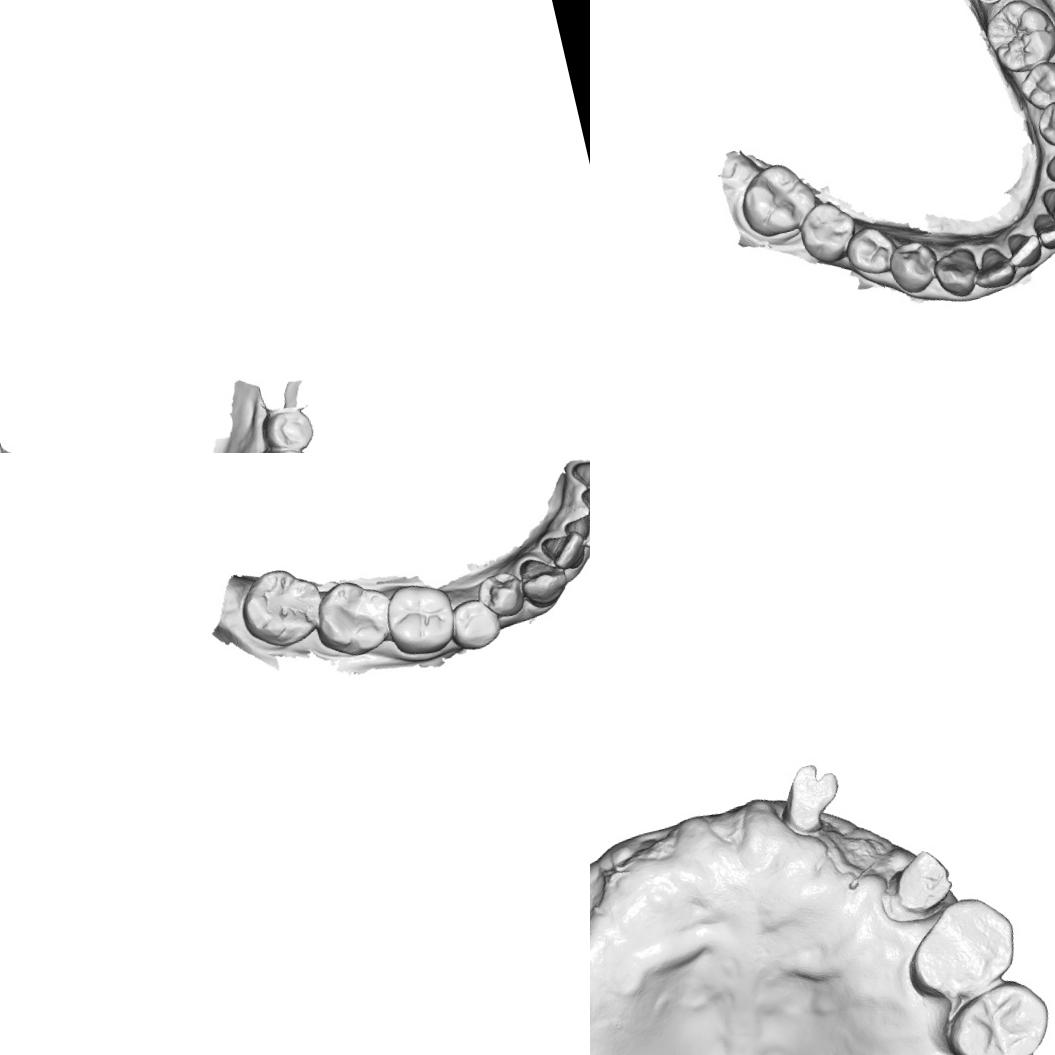canine: (512, 548, 575, 615), (928, 244, 984, 302), (1039, 137, 1055, 193)
crown: (768, 750, 856, 848), (877, 844, 961, 926)
incisor: (968, 242, 1020, 293), (538, 528, 590, 576), (1002, 227, 1044, 271), (560, 504, 590, 553), (1029, 205, 1055, 253), (566, 455, 590, 502), (1038, 180, 1055, 228), (577, 477, 590, 517)
molar: (231, 558, 333, 656), (307, 571, 402, 664), (732, 156, 824, 243), (379, 572, 464, 662), (978, 0, 1055, 78), (793, 194, 865, 269)
premolar: (895, 888, 1026, 1007), (934, 969, 1055, 1055), (840, 220, 903, 281), (883, 235, 944, 298), (446, 594, 506, 654), (471, 566, 529, 624), (256, 402, 318, 453), (1014, 56, 1055, 115), (1031, 94, 1055, 151), (257, 439, 318, 453)
